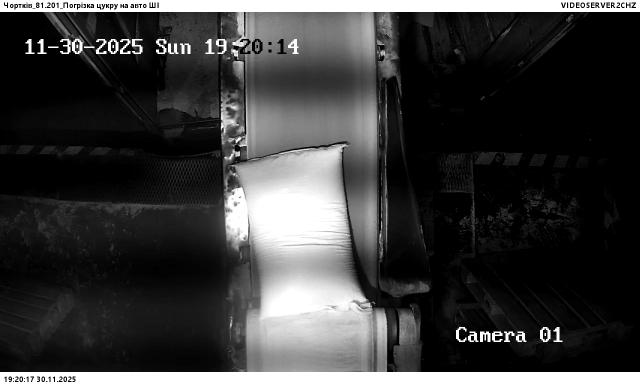bag: (234, 144, 375, 319)
